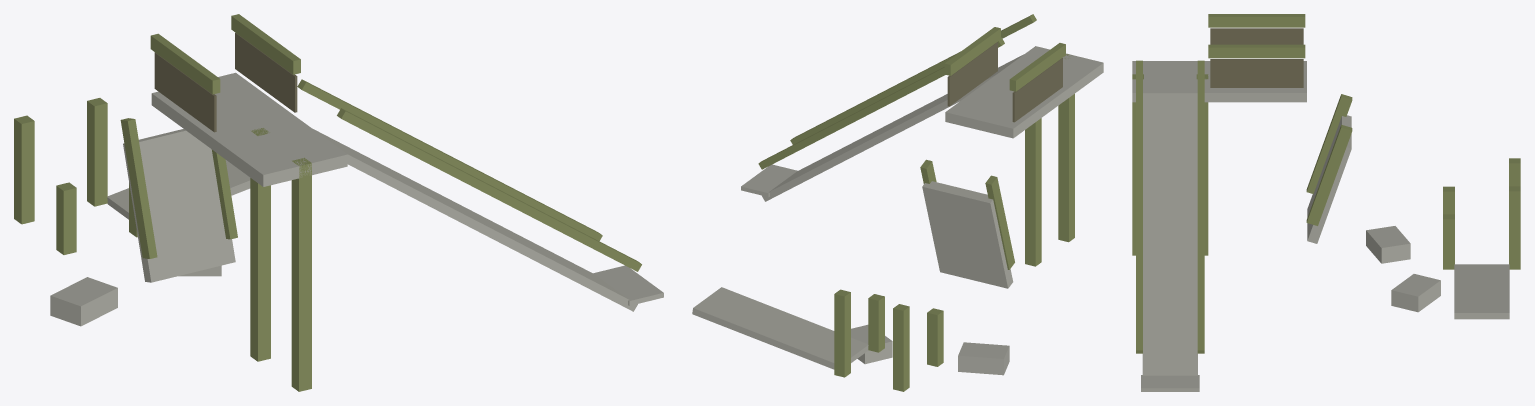
Rendered from SM_KitPaso_v4_LOD1.fbx.
3 renders of one model, left to right at view 1: azimuth 30°, elevation 25°; view 2: azimuth 150°, elevation 25°; view 3: azimuth 270°, elevation 25°, orthographic. The views are drawn at different scales.
Visible parts, largest first — view 1: SM_bloques.kit_paso_v4_LOD1; view 2: SM_bloques.kit_paso_v4_LOD1; view 3: SM_bloques.kit_paso_v4_LOD1.
Part boxes in pixels (box(x1,y1,x2,y2)): SM_bloques.kit_paso_v4_LOD1: box(14, 14, 663, 391); SM_bloques.kit_paso_v4_LOD1: box(692, 14, 1103, 391); SM_bloques.kit_paso_v4_LOD1: box(1132, 14, 1520, 391).
Bounding box in the file's own units: 11.75 × 7.77 × 11.22.
